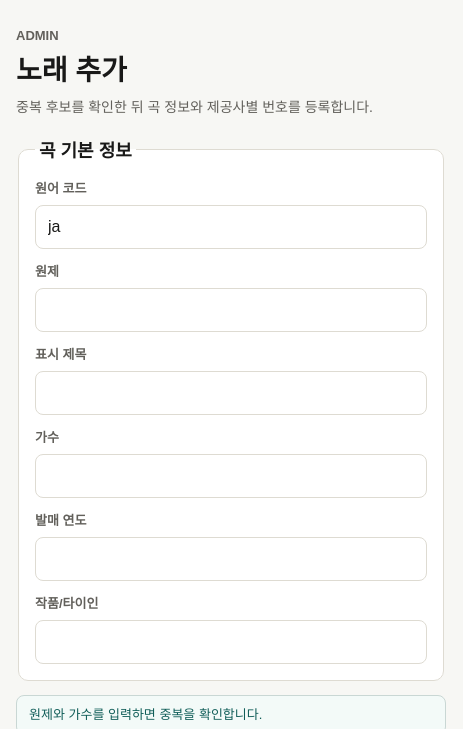
Test: admin song page › requires one acknowledgement for all possible candidates and resets it when candidate IDs change
In the field labelled "원제": (231,310) [35,288,427,332], type "Lemon"
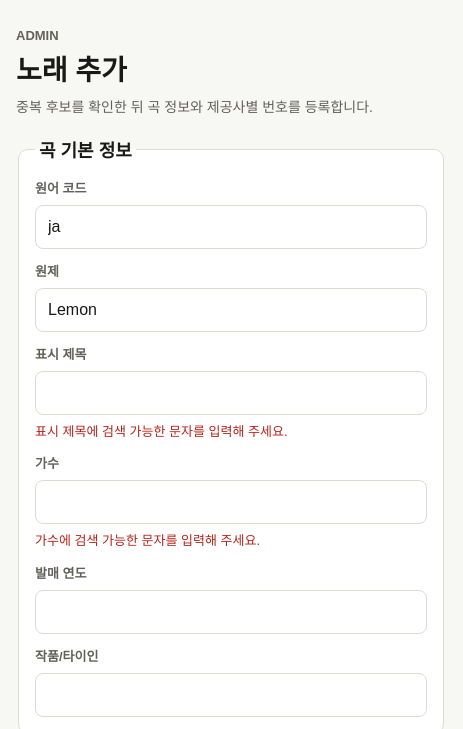
In the field labelled "표시 제목": (231,393) [35,371,427,415], type "레몬"
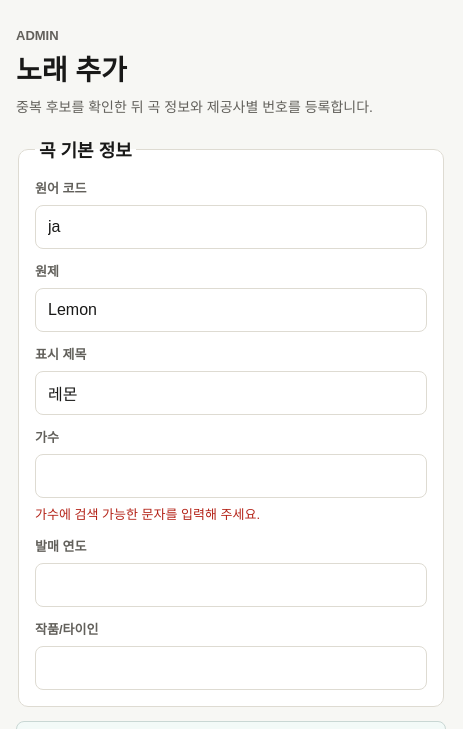
In the field labelled "가수": (231,476) [35,454,427,498], type "米津玄師"
(page scrolled)
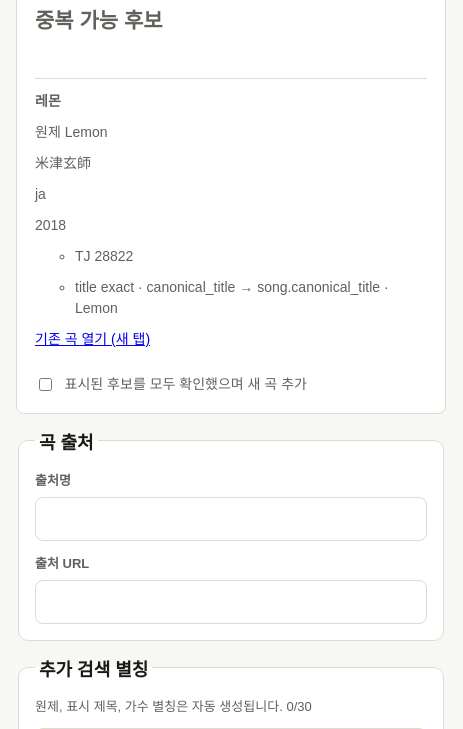
Check: the heading "중복 가능 후보" is shown, box [35,9,163,32]
Click the checkbox labelled "표시된 후보를 모두 확인했으며 새 곡 추가": (46,384) [39,378,52,390]
(page scrolled)
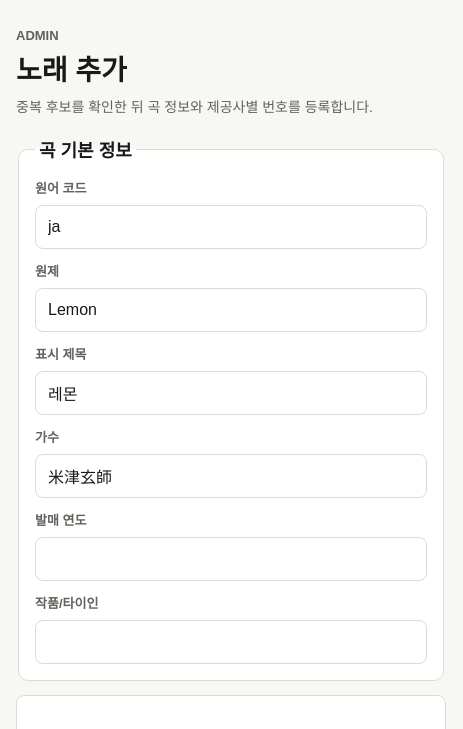
Replace the text in the field labelled "원제" with "Lemon changed": (231,310) [35,288,427,332]
(page scrolled)
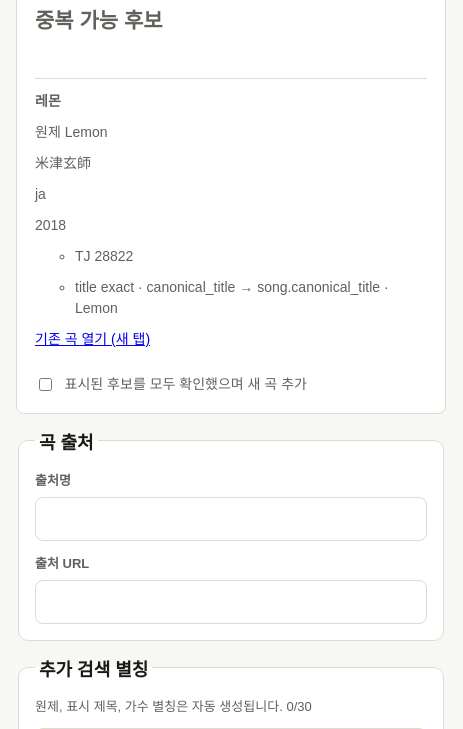
Check: the checkbox labelled "표시된 후보를 모두 확인했으며 새 곡 추가" is not checked, box [39,378,52,390]
